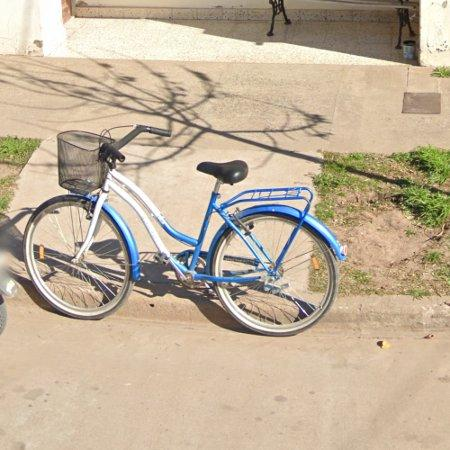bicycles: (23, 125, 348, 336)
